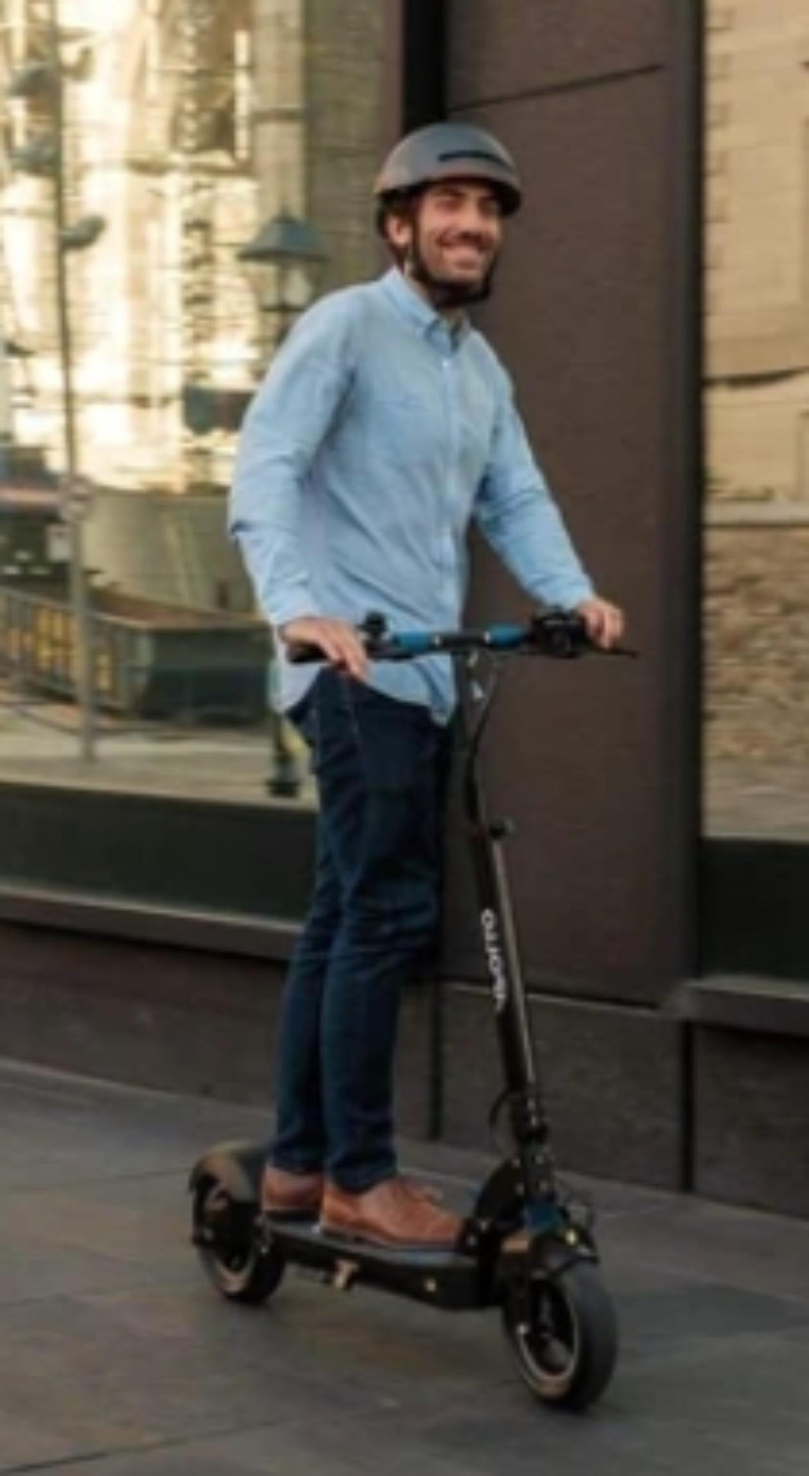helmet: (353, 103, 546, 328)
human: (221, 108, 605, 1217)
kickboard: (184, 1155, 618, 1386)
